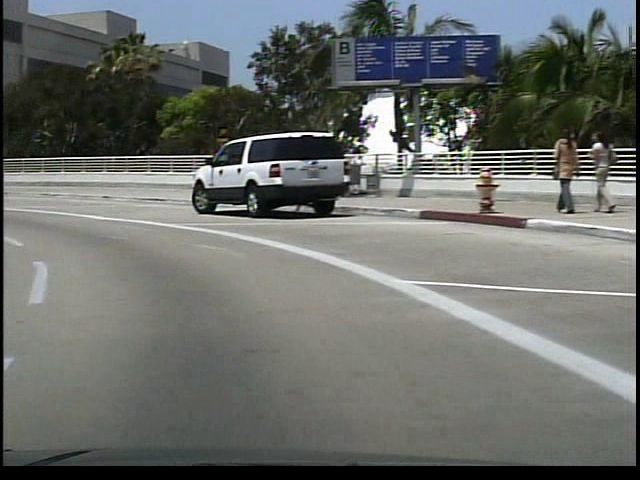person: (577, 127, 608, 215), (542, 124, 570, 218)
